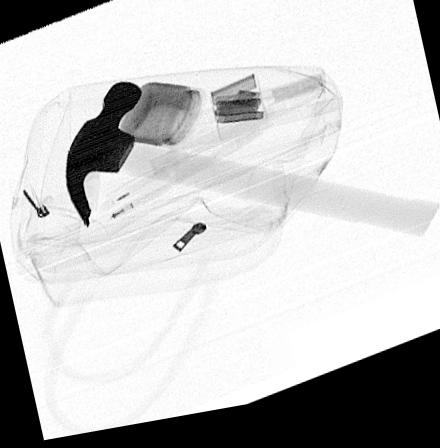Hammer: (61, 83, 440, 253)
